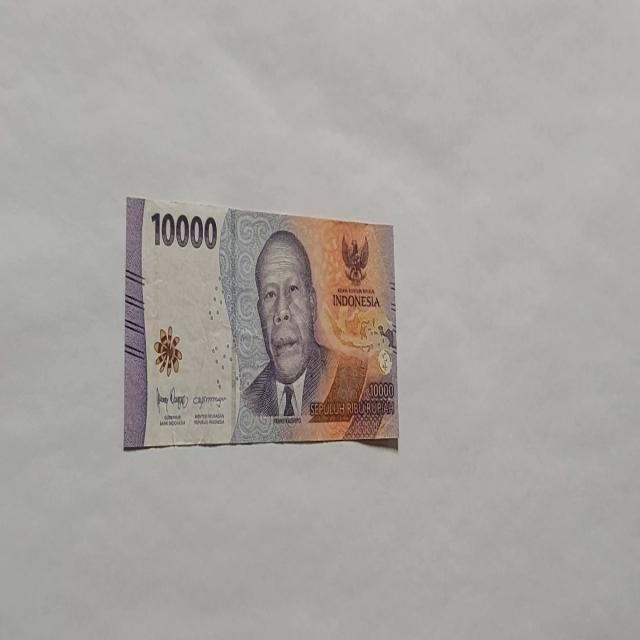sepuluh ribu rupiah: (123, 194, 400, 452), (229, 226, 367, 440)
